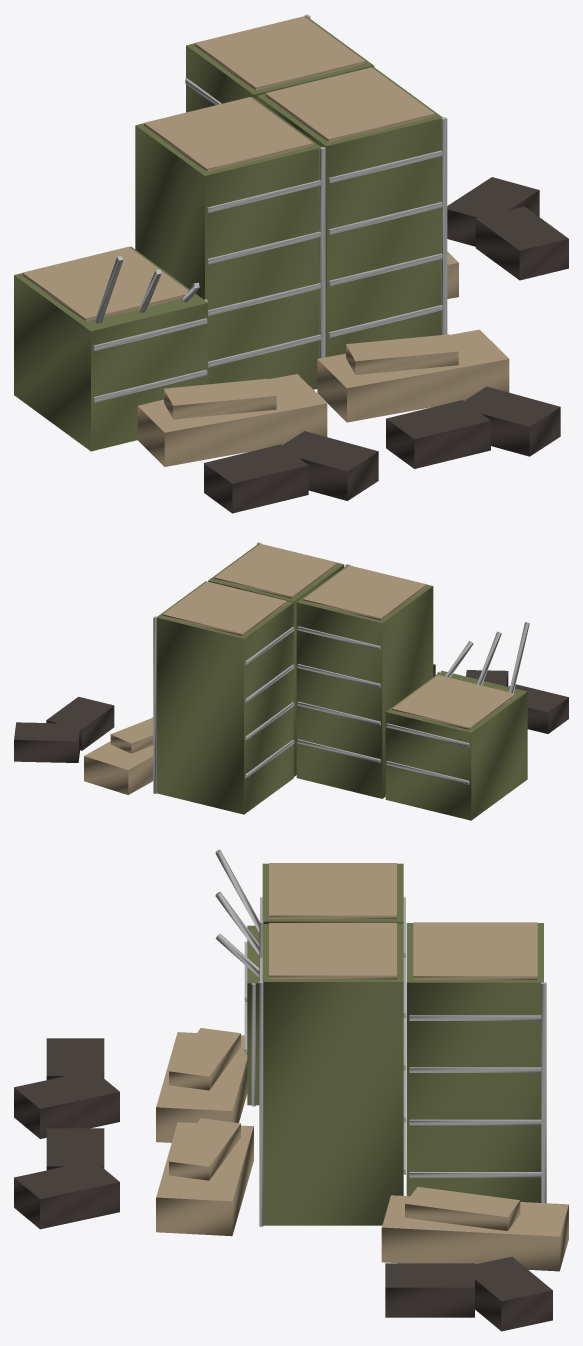
The model's file is SM_HescoRemateEspejo_v0_MallaLimpia_e1_Danado_LOD0.fbx.
3 views of the same model, one above another, from view 1: azimuth 30°, elevation 25°; view 2: azimuth 150°, elevation 25°; view 3: azimuth 270°, elevation 25° (orthographic). The views are drawn at different scales.
Visible parts, largest first — view 1: SM_hesco_piezas_v21_LOD0; view 2: SM_hesco_piezas_v21_LOD0; view 3: SM_hesco_piezas_v21_LOD0.
Boxes of the visible parts, box(x1,y1,x2,y2) form: SM_hesco_piezas_v21_LOD0: box(14, 14, 568, 513); SM_hesco_piezas_v21_LOD0: box(14, 542, 568, 820); SM_hesco_piezas_v21_LOD0: box(14, 849, 568, 1331).
Size of the model in its own units: 5.25 by 2.13 by 4.33.
